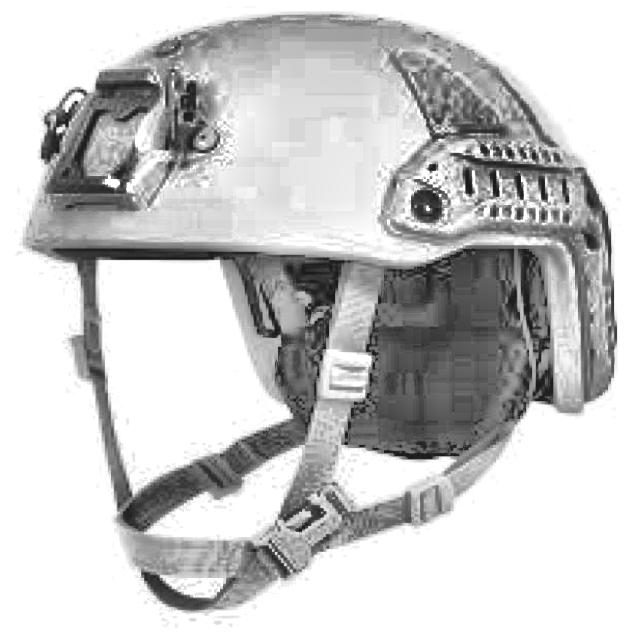Helmet: (22, 10, 624, 613)
